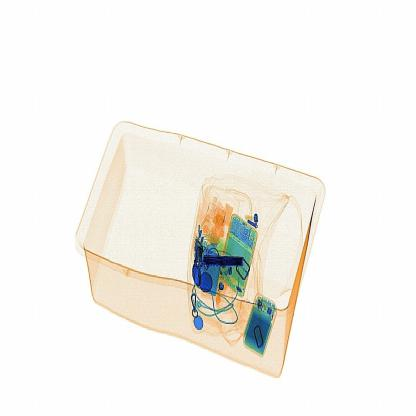scissors: (194, 246, 254, 275)
